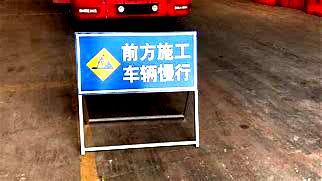sign: (75, 31, 198, 92)
